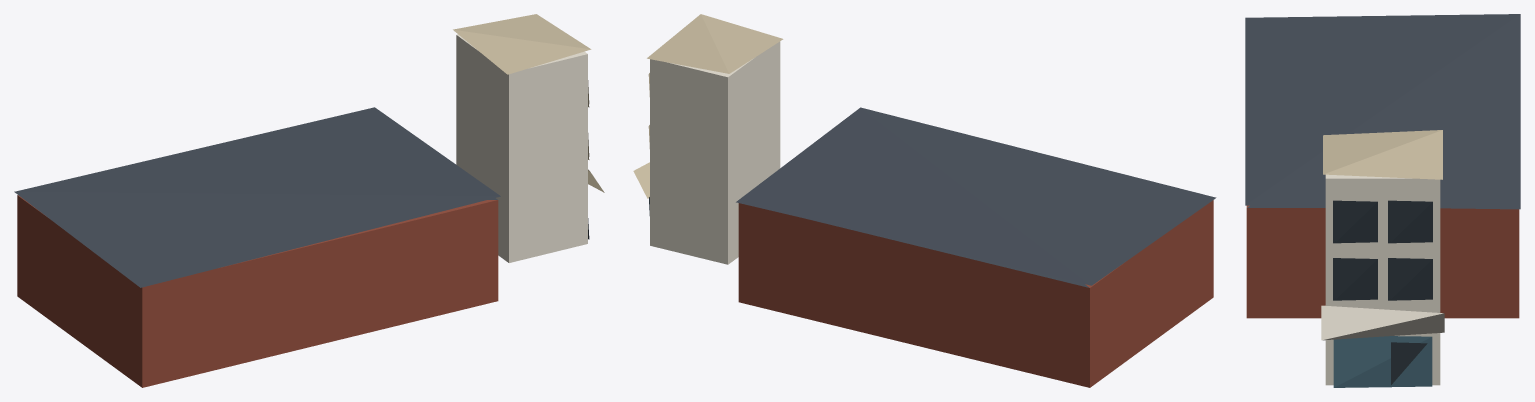
File: the-movies.lod2.glb
The picture shows the model from 3 angles, left to right: view 1: azimuth 30°, elevation 25°; view 2: azimuth 150°, elevation 25°; view 3: azimuth 270°, elevation 25°; orthographic projection. The views are drawn at different scales.
Visible parts, largest first — view 1: lod2; view 2: lod2; view 3: lod2.
Boxes of the visible parts, x1=… form: lod2: x1=14, y1=14, x2=604, y2=387; lod2: x1=633, y1=14, x2=1216, y2=387; lod2: x1=1245, y1=14, x2=1520, y2=387.
Size of the model in its own units: 37.71 by 14.05 by 16.55.
